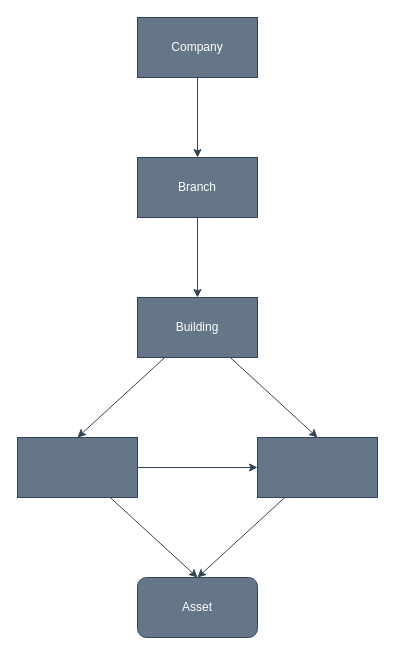
The diagram is 395 pixels wide and 655 high, and some of its shapes have lost their labels. Here are the shapes that lost their labels. From the top down, the centre of each, then its label:
point 77,467: Floor / Area
point 317,467: Room
